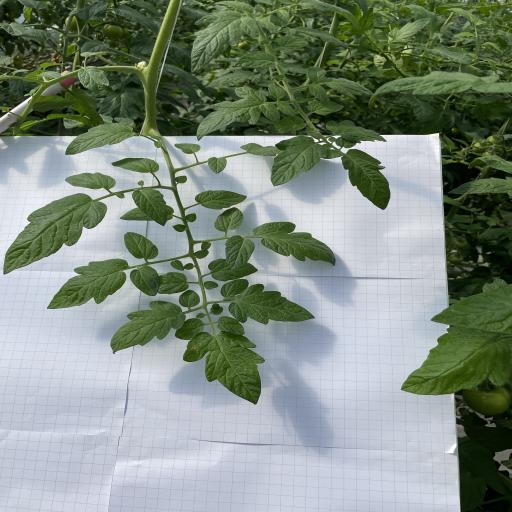Healthy: (2, 192, 108, 274), (400, 326, 512, 396), (369, 70, 512, 111), (197, 86, 280, 142), (190, 10, 260, 76), (221, 278, 316, 325), (46, 258, 128, 310), (110, 300, 186, 356), (430, 284, 512, 334), (252, 221, 336, 267), (341, 149, 391, 211), (271, 136, 327, 187), (65, 122, 136, 156), (308, 66, 374, 102), (300, 0, 359, 31), (296, 26, 351, 56), (387, 17, 433, 49), (326, 120, 387, 144), (132, 186, 168, 226), (64, 89, 104, 124), (114, 4, 160, 34), (447, 176, 512, 197), (208, 258, 259, 282), (394, 93, 436, 122), (195, 189, 247, 210), (224, 235, 255, 270), (124, 232, 159, 260), (120, 204, 174, 222), (77, 66, 110, 95), (130, 265, 160, 296), (467, 154, 512, 174), (66, 172, 116, 190), (233, 50, 279, 68), (110, 158, 160, 174), (32, 95, 76, 112), (158, 271, 189, 295), (215, 207, 244, 232), (448, 7, 487, 25), (76, 0, 108, 21), (175, 318, 204, 341), (271, 116, 306, 134), (240, 142, 284, 156), (306, 100, 344, 115), (217, 316, 245, 335), (214, 1, 254, 14), (277, 35, 309, 51), (22, 28, 52, 42), (178, 289, 200, 308), (80, 40, 110, 52), (208, 156, 228, 174), (276, 102, 298, 118), (0, 22, 25, 36), (174, 143, 201, 154), (268, 83, 286, 99), (276, 9, 290, 23), (36, 71, 63, 78)
